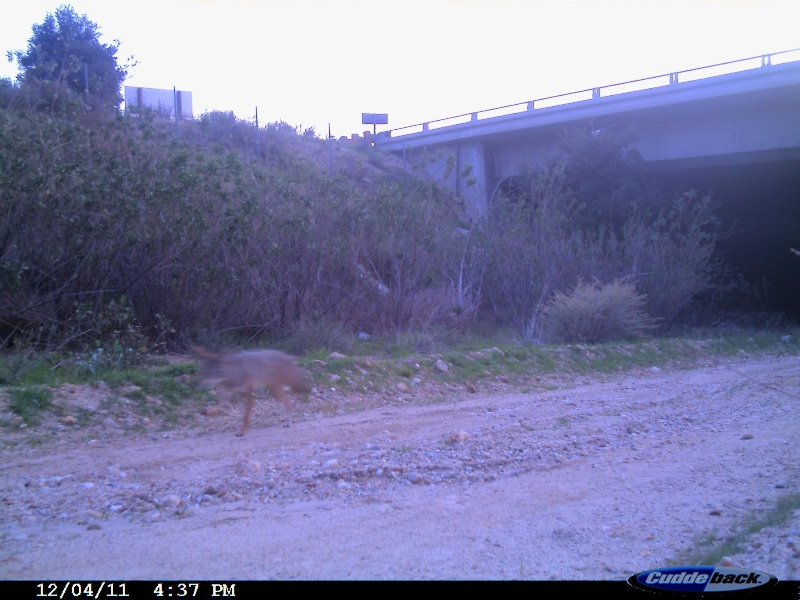coyote: (186, 340, 314, 438)
